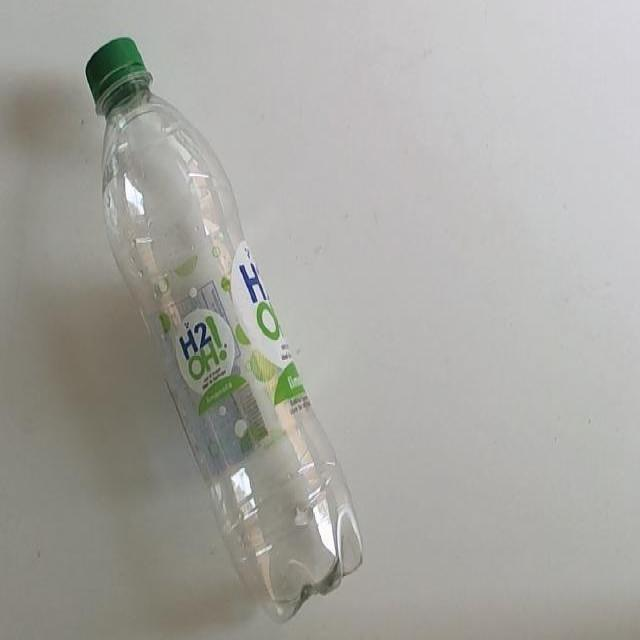non-defect: (84, 35, 365, 626)
